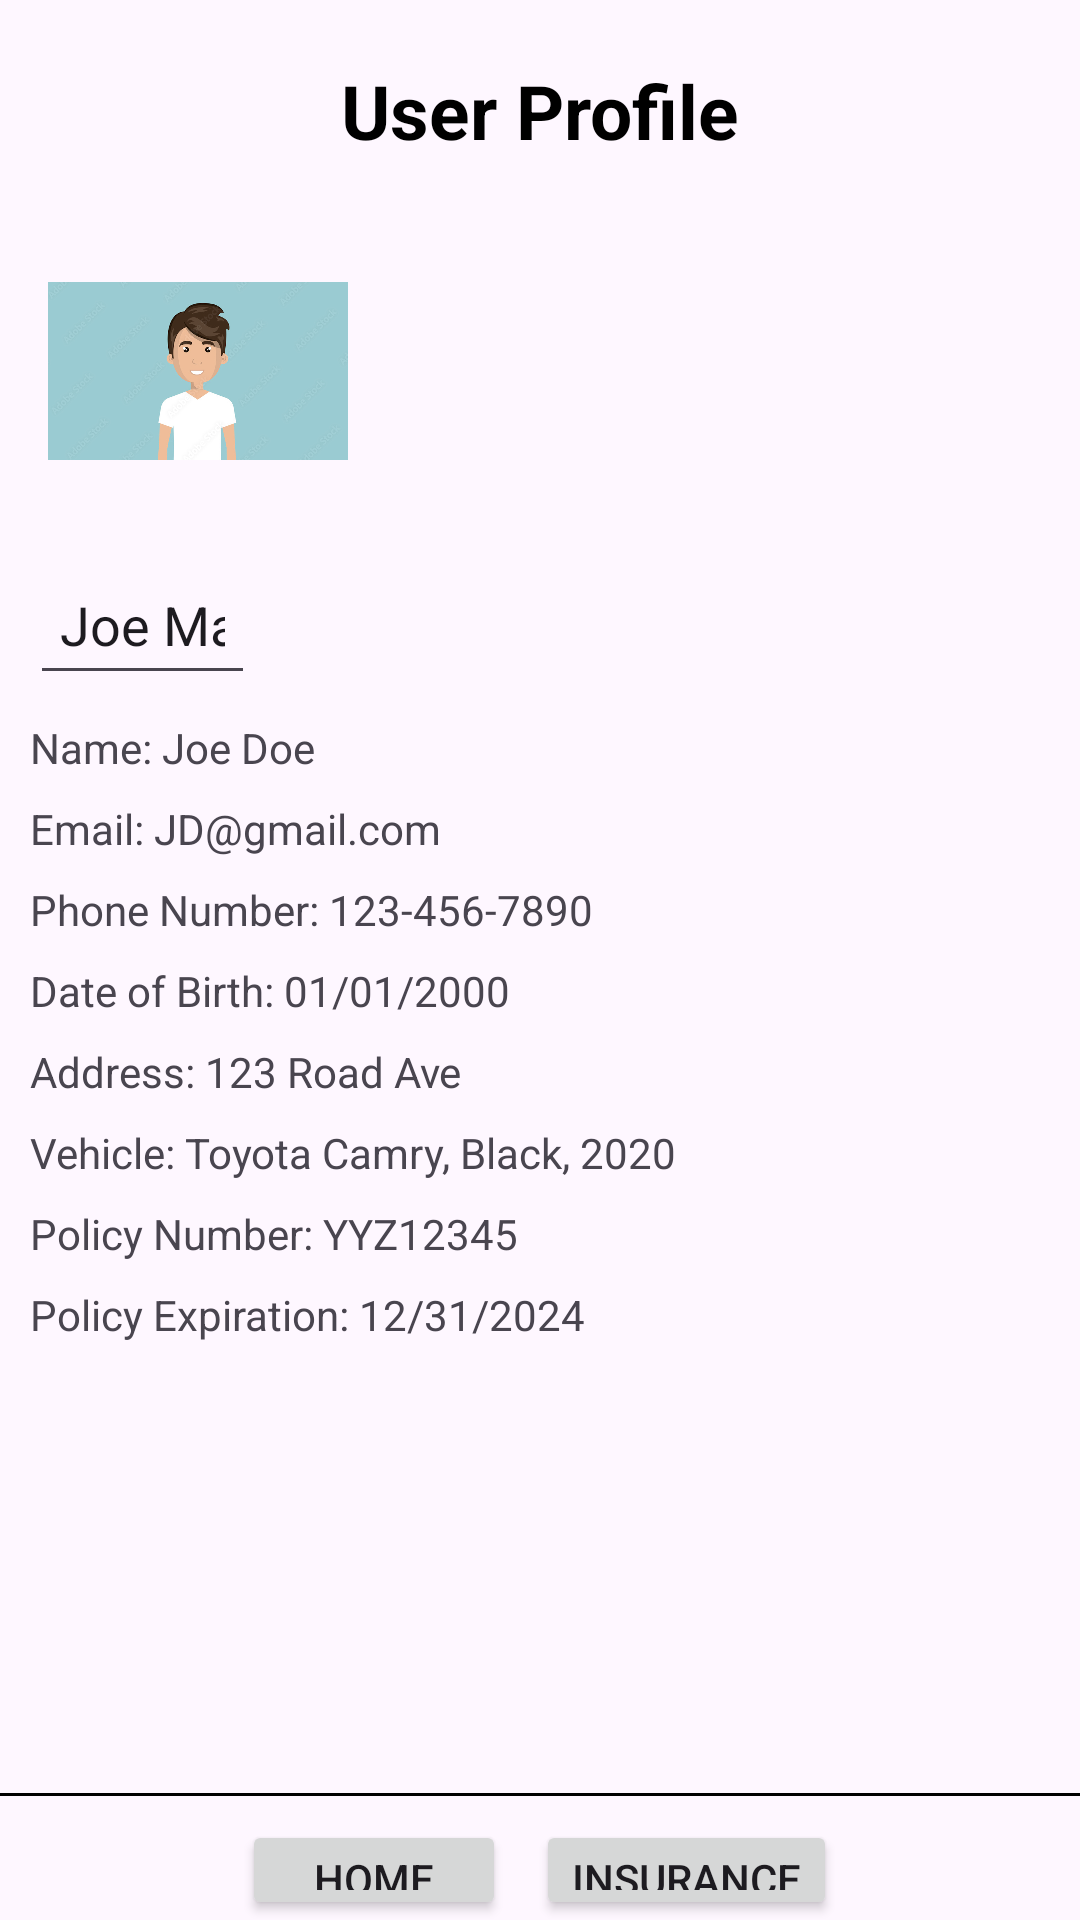

Icons on this 1080 x 1920 Android screen, each with its box as (left=x1, top=y1, right=x2, bottom=y2):
avatars: (left=48, top=282, right=348, bottom=460)
